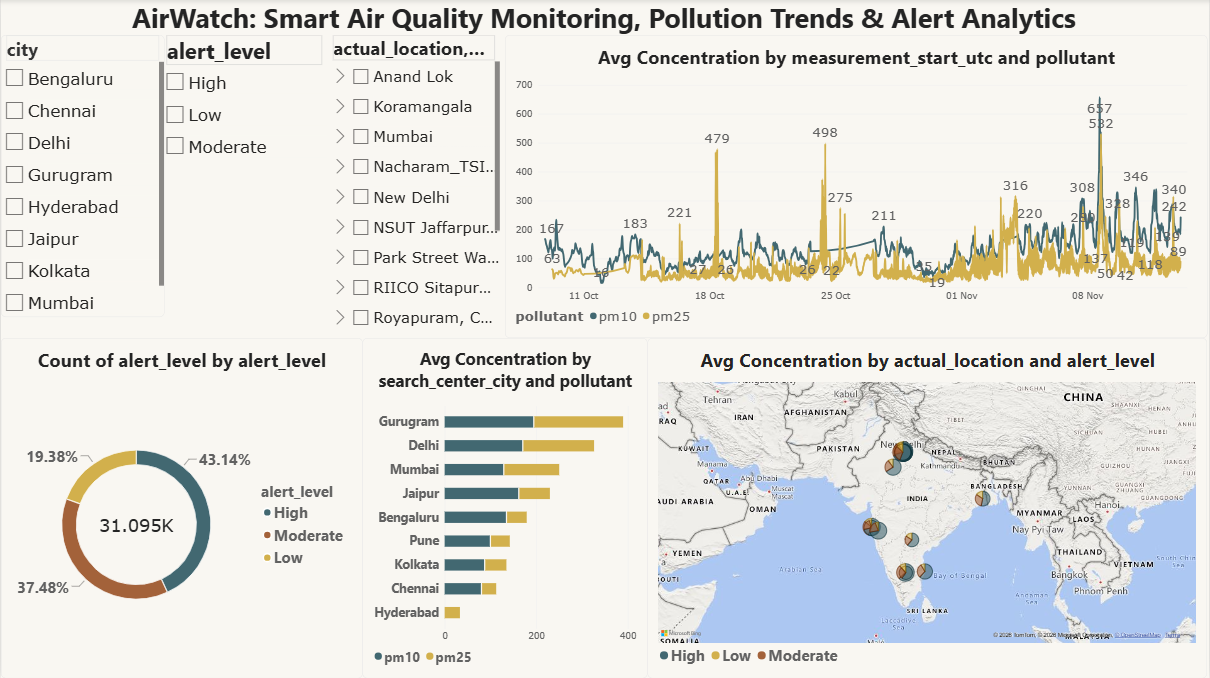

This screenshot's page, from the dashboard's own definition file:
{"tool":"powerbi","page":{"name":"Page 1","canvas":[1920,1080],"ordinal":0},"visuals":[{"type":"slicer","fields":{"Values":["`workspace` `smartair` `gold_aqi_alerts`.actual_location","`workspace` `smartair` `gold_aqi_alerts`.search_center_city"]},"box":[520.1,57.3,273.1,482.3],"z":0},{"type":"slicer","fields":{"Values":["`workspace` `smartair` `gold_aqi_alerts`.alert_level"]},"box":[255.3,57.3,263.3,482.3],"z":1000},{"type":"lineChart","fields":{"Category":["`workspace` `smartair` `gold_aqi_alerts`.measurement_start_utc"],"Series":["`workspace` `smartair` `gold_aqi_alerts`.pollutant"],"Y":["`workspace` `smartair` `gold_aqi_alerts`.Avg Concentration"]},"box":[801.7,57.3,1117.1,482.3],"z":2000},{"type":"slicer","fields":{"Values":["`workspace` `smartair` `gold_aqi_alerts`.search_center_city"]},"box":[0,57.3,259.7,448.3],"z":3000},{"type":"barChart","fields":{"Category":["`workspace` `smartair` `gold_aqi_alerts`.search_center_city"],"Series":["`workspace` `smartair` `gold_aqi_alerts`.pollutant"],"Y":["`workspace` `smartair` `gold_aqi_alerts`.Avg Concentration"]},"box":[575,539.2,453.3,541.6],"z":4000},{"type":"donutChart","fields":{"Category":["`workspace` `smartair` `gold_aqi_alerts`.alert_level"],"Y":["CountNonNull(`workspace` `smartair` `gold_aqi_alerts`.alert_level)"]},"box":[0,539.2,575,541.6],"z":5000},{"type":"map","fields":{"Category":["`workspace` `smartair` `gold_aqi_alerts`.actual_location"],"Series":["`workspace` `smartair` `gold_aqi_alerts`.alert_level"],"Size":["`workspace` `smartair` `gold_aqi_alerts`.Avg Concentration"]},"box":[1028.3,539.2,889.9,541.6],"z":6000},{"type":"shape","title":"AirWatch: Smart Air Quality Monitoring, Pollution Trends & Alert Analytics","box":[0,0,1918.3,57.3],"z":7000}]}

Visuals, with their boxes in screenshot pixels (x1, y1, x2, y2), scaled from the page's 1920x1080 canvas onto the 1210x678 screenshot:
slicer - `workspace` `smartair` `gold_aqi_alerts`.actual_location x `workspace` `smartair` `gold_aqi_alerts`.search_center_city: Rect(328, 36, 500, 339)
slicer - `workspace` `smartair` `gold_aqi_alerts`.alert_level: Rect(161, 36, 327, 339)
lineChart - `workspace` `smartair` `gold_aqi_alerts`.measurement_start_utc x `workspace` `smartair` `gold_aqi_alerts`.pollutant: Rect(505, 36, 1209, 339)
slicer - `workspace` `smartair` `gold_aqi_alerts`.search_center_city: Rect(0, 36, 164, 317)
barChart - `workspace` `smartair` `gold_aqi_alerts`.search_center_city x `workspace` `smartair` `gold_aqi_alerts`.pollutant: Rect(362, 338, 648, 677)
donutChart - `workspace` `smartair` `gold_aqi_alerts`.alert_level x CountNonNull(`workspace` `smartair` `gold_aqi_alerts`.alert_level): Rect(0, 338, 362, 677)
map - `workspace` `smartair` `gold_aqi_alerts`.actual_location x `workspace` `smartair` `gold_aqi_alerts`.alert_level: Rect(648, 338, 1209, 677)
"AirWatch: Smart Air Quality Monitoring, Pollution Trends & Alert Analytics" shape: Rect(0, 0, 1209, 36)
